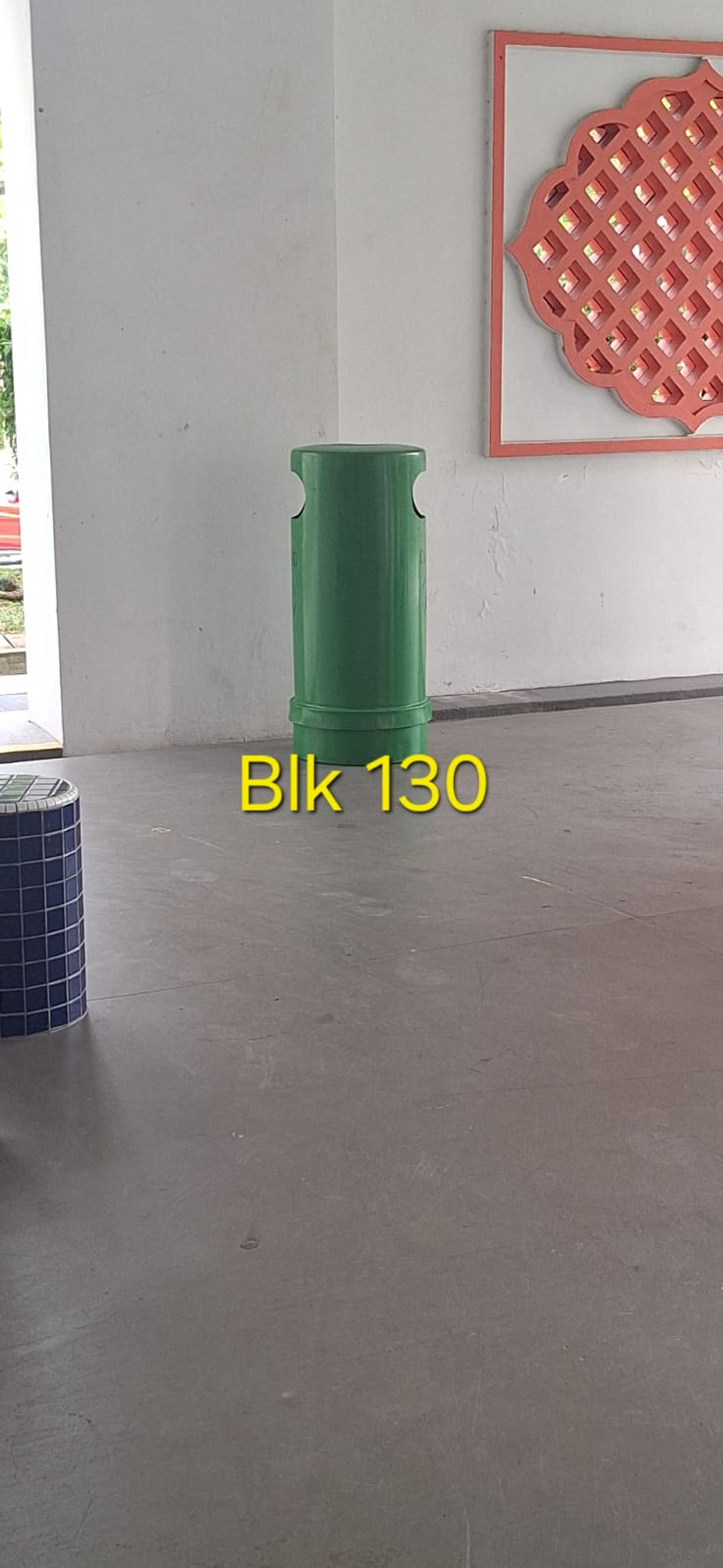bin_empty: (289, 444, 431, 768)
